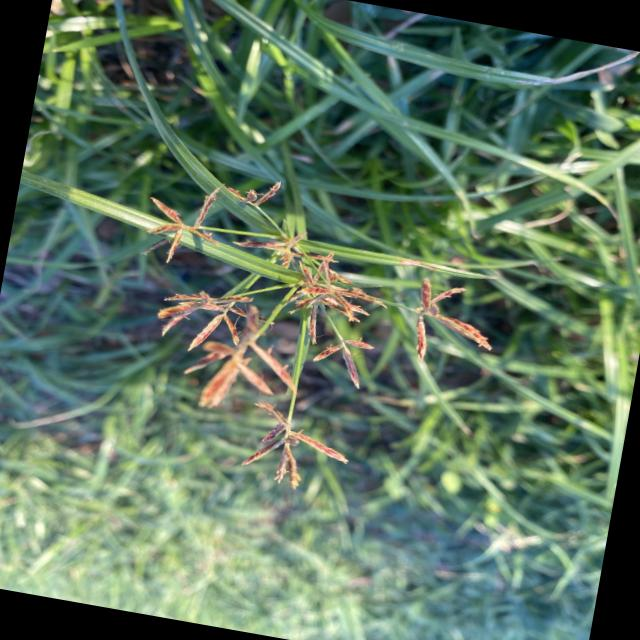cyperus: (94, 139, 525, 522)
